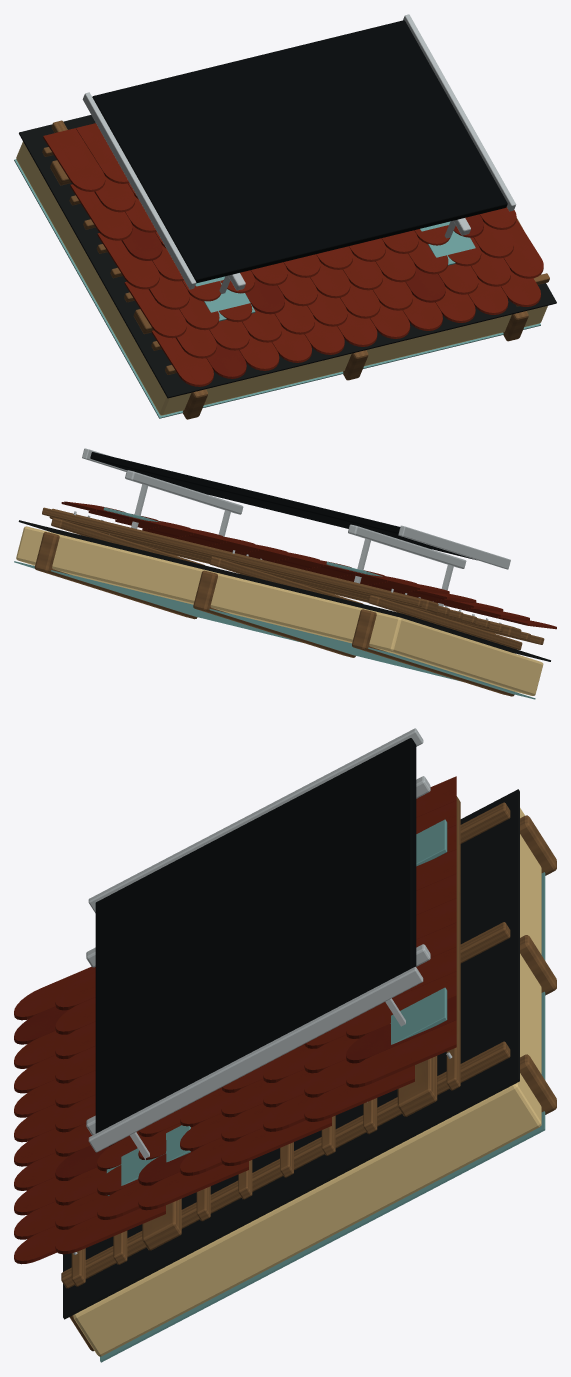
The model's file is modell.glb.
3 views of the same model, one above another, from view 1: azimuth 30°, elevation 25°; view 2: azimuth 150°, elevation 25°; view 3: azimuth 270°, elevation 25° (orthographic). The views are drawn at different scales.
Parts seen in each view (by area): view 1: a01-modul_, a01-deckziegel_deckung, a01-daemmung_daemmung, a01-zusatzebene_zusatzebene, a01-deckziegel_deckung.001, a01-modul_.001, a01-luftdichtheit_luftdichtheit, a01-wetteranschluss_deckung, a01-sparren_tragwerk, a01-lattung_lattung, a01-befestigungsuntergrund_lattung; view 2: a01-daemmung_daemmung, a01-lattung_lattung, a01-deckziegel_deckung, a01-modul_, a01-sparren_tragwerk, a01-luftdichtheit_luftdichtheit, a01-zusatzebene_zusatzebene, a01-befestigungsuntergrund_lattung, a01-schiene_, a01-modul_.001, a01-halter_, a01-deckziegel_deckung.001 (+1 smaller); view 3: a01-modul_, a01-deckziegel_deckung, a01-daemmung_daemmung, a01-zusatzebene_zusatzebene, a01-lattung_lattung, a01-modul_.001, a01-deckziegel_deckung.001, a01-wetteranschluss_deckung, a01-luftdichtheit_luftdichtheit, a01-sparren_tragwerk, a01-befestigungsuntergrund_lattung, a01-schiene_.
Part boxes in pixels (x1,y1,x2,y2): a01-modul_: (92,20,507,283); a01-deckziegel_deckung: (43,123,543,386); a01-daemmung_daemmung: (16,141,547,415); a01-zusatzebene_zusatzebene: (19,115,556,398); a01-deckziegel_deckung.001: (121,214,483,378); a01-modul_.001: (82,14,516,289); a01-luftdichtheit_luftdichtheit: (14,159,540,418); a01-wetteranschluss_deckung: (195,221,475,321); a01-sparren_tragwerk: (183,311,528,419); a01-lattung_lattung: (42,120,549,374); a01-befestigungsuntergrund_lattung: (50,160,523,334); a01-daemmung_daemmung: (16,526,543,695); a01-lattung_lattung: (42,507,544,649); a01-deckziegel_deckung: (61,501,556,629); a01-modul_: (90,452,476,560); a01-sparren_tragwerk: (34,532,514,696); a01-luftdichtheit_luftdichtheit: (14,561,535,699); a01-zusatzebene_zusatzebene: (18,520,550,661); a01-befestigungsuntergrund_lattung: (49,508,521,638); a01-schiene_: (125,470,466,568); a01-modul_.001: (82,448,510,569); a01-halter_: (131,484,453,606); a01-deckziegel_deckung.001: (97,509,495,617); a01-modul_: (95,738,416,1133); a01-deckziegel_deckung: (14,776,456,1264); a01-daemmung_daemmung: (73,808,541,1356); a01-zusatzebene_zusatzebene: (63,789,519,1319); a01-lattung_lattung: (61,796,510,1288); a01-modul_.001: (88,728,423,1152); a01-deckziegel_deckung.001: (14,996,456,1185); a01-wetteranschluss_deckung: (106,819,447,1195); a01-luftdichtheit_luftdichtheit: (100,872,545,1362); a01-sparren_tragwerk: (69,815,556,1351); a01-befestigungsuntergrund_lattung: (142,1056,437,1250); a01-schiene_: (86,776,430,1135).
Size of the model in its own units: 2.14 by 1.3 by 1.69.
Materials: 8 (3 with a texture image).
